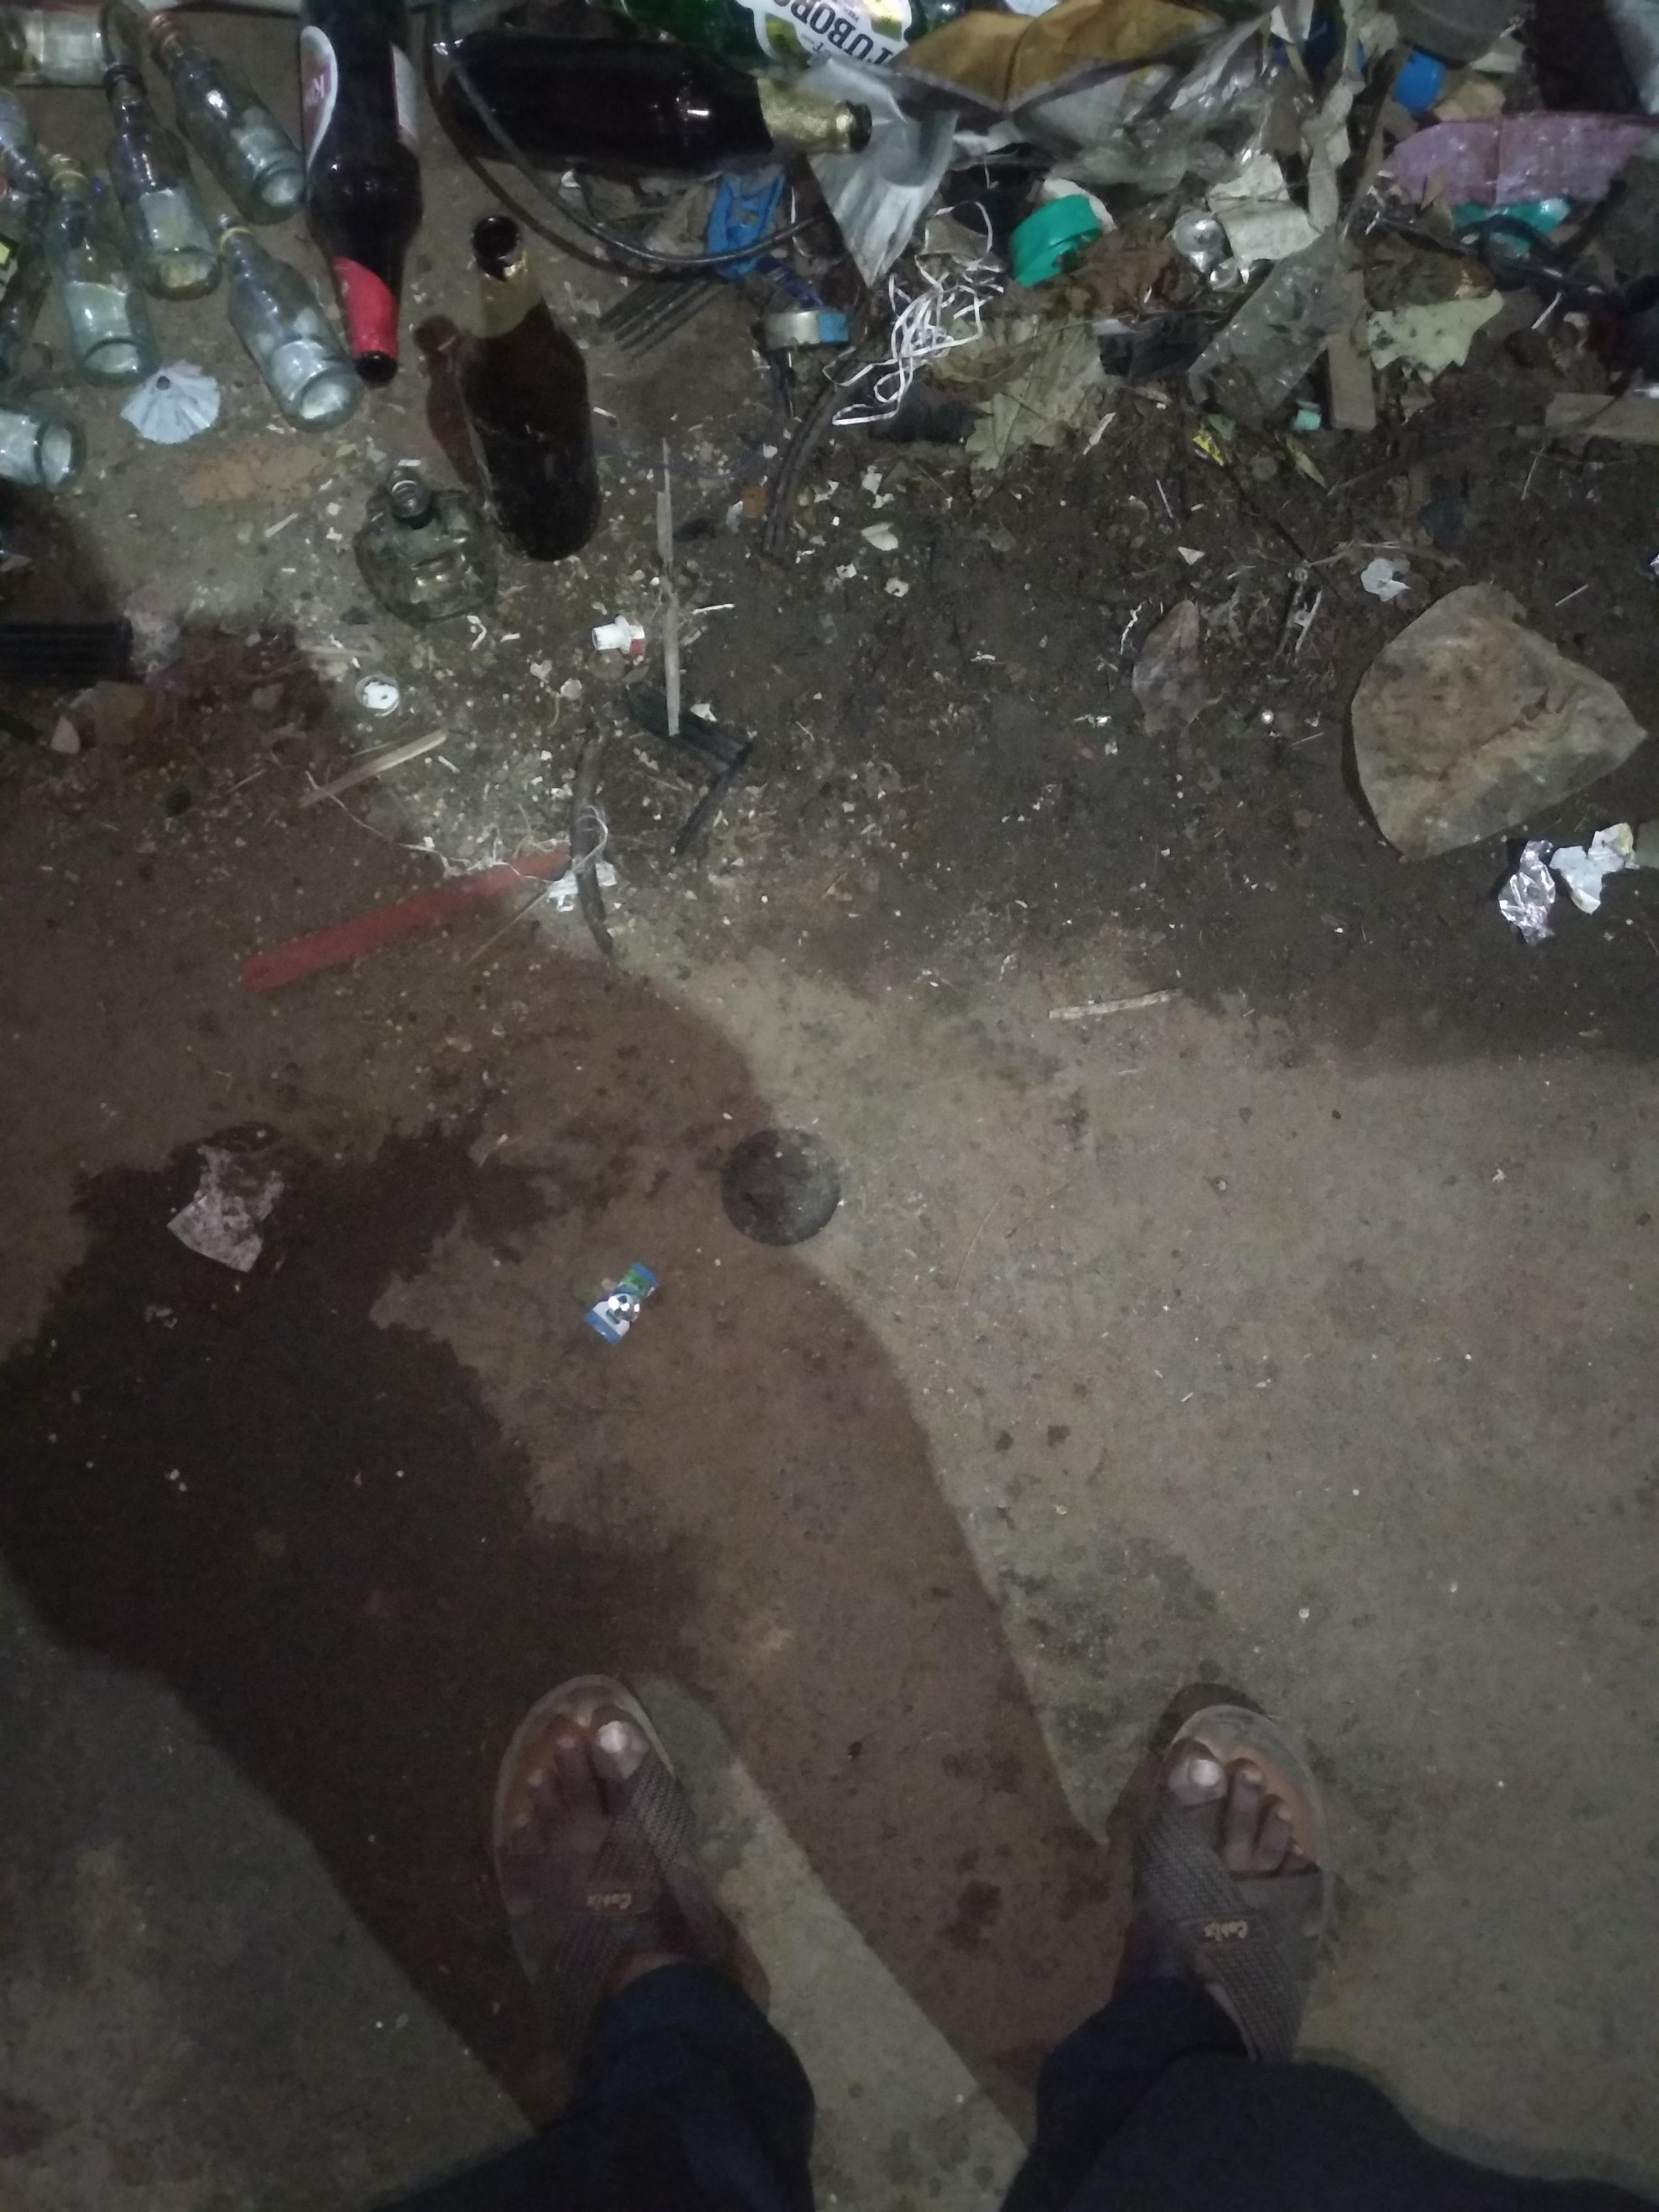trash: (2, 0, 1659, 951)
